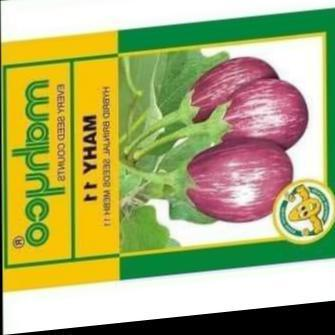eggplant: (162, 54, 270, 245), (160, 57, 304, 165), (170, 126, 272, 238)
